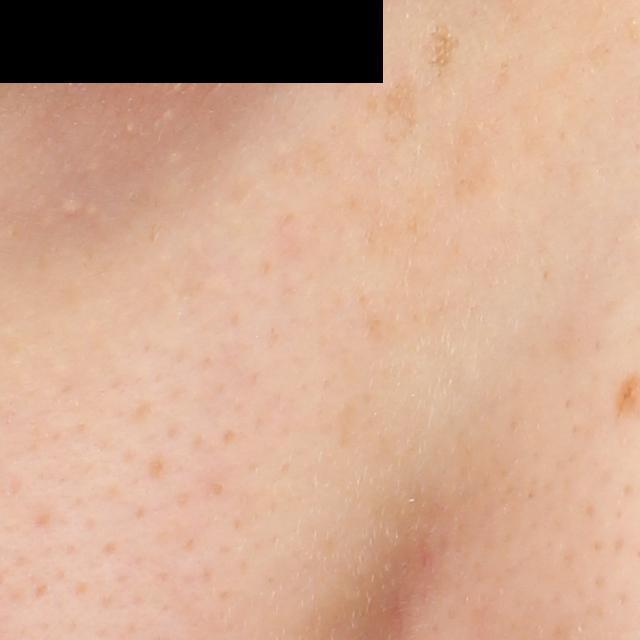melasma: (330, 62, 423, 153), (446, 105, 506, 208), (418, 21, 466, 80)
other: (60, 197, 82, 217)
